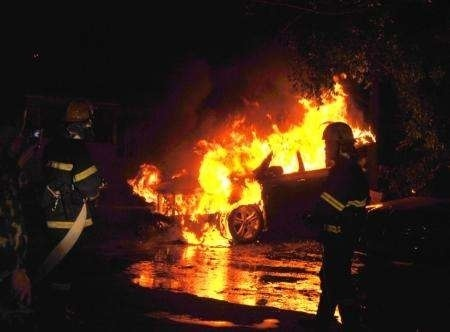fire: (137, 74, 376, 238)
